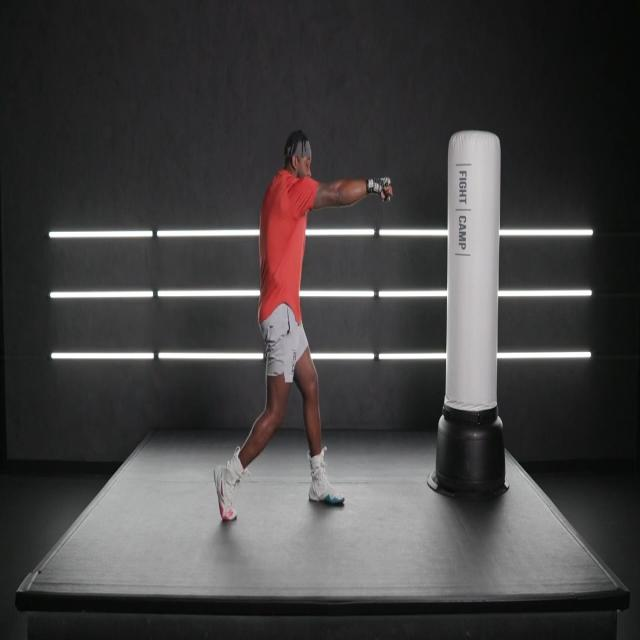Cross: (209, 166, 411, 542)
